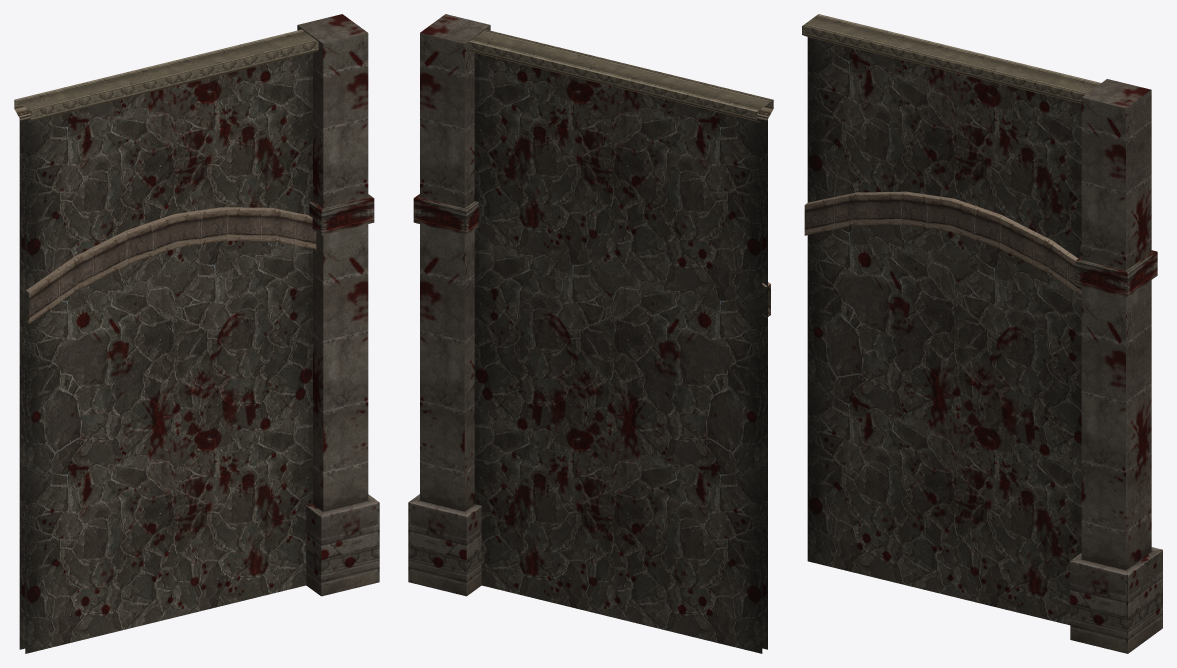
Rendered from blsd_shiqiang_02.FBX.
3 views of the same model, side by side, from view 1: azimuth 30°, elevation 25°; view 2: azimuth 150°, elevation 25°; view 3: azimuth 330°, elevation 25° (orthographic).
Visible parts, largest first — view 1: blsd_shiqiang_02; view 2: blsd_shiqiang_02; view 3: blsd_shiqiang_02.
Part boxes in pixels (x1=…): blsd_shiqiang_02: x1=14, y1=14, x2=379, y2=653; blsd_shiqiang_02: x1=408, y1=14, x2=773, y2=653; blsd_shiqiang_02: x1=802, y1=14, x2=1162, y2=653.
Bounding box in the file's own units: 325 × 501 × 58.71.
